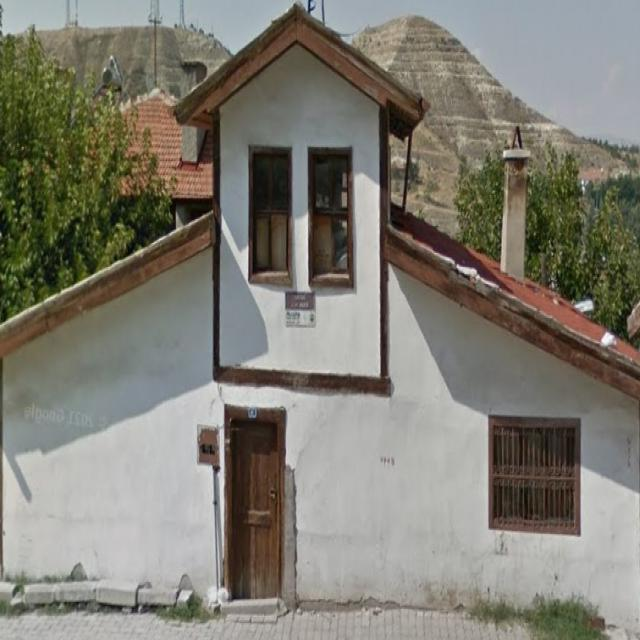Building: (1, 3, 640, 632)
